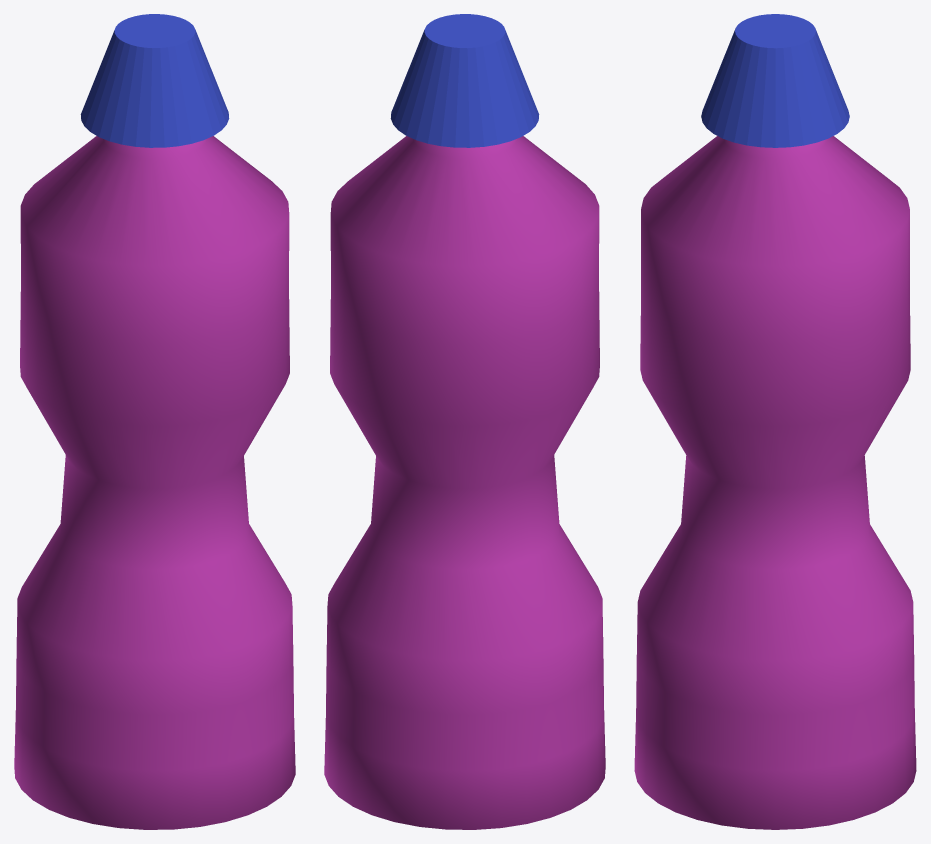
The model's file is cleaning bottle 3.fbx.
3 views of the same model, side by side, from view 1: azimuth 30°, elevation 25°; view 2: azimuth 150°, elevation 25°; view 3: azimuth 270°, elevation 25° (orthographic).
Parts seen in each view (by area): view 1: Sphere, Cylinder; view 2: Sphere, Cylinder; view 3: Sphere, Cylinder.
Part boxes in pixels (left/top/right/bottom): Sphere: left=14, top=136, right=295, bottom=829; Cylinder: left=80, top=14, right=229, bottom=147; Sphere: left=324, top=136, right=605, bottom=829; Cylinder: left=390, top=14, right=539, bottom=147; Sphere: left=634, top=136, right=916, bottom=829; Cylinder: left=701, top=14, right=849, bottom=147.
Bounding box in the file's own units: 170 × 492 × 170.
